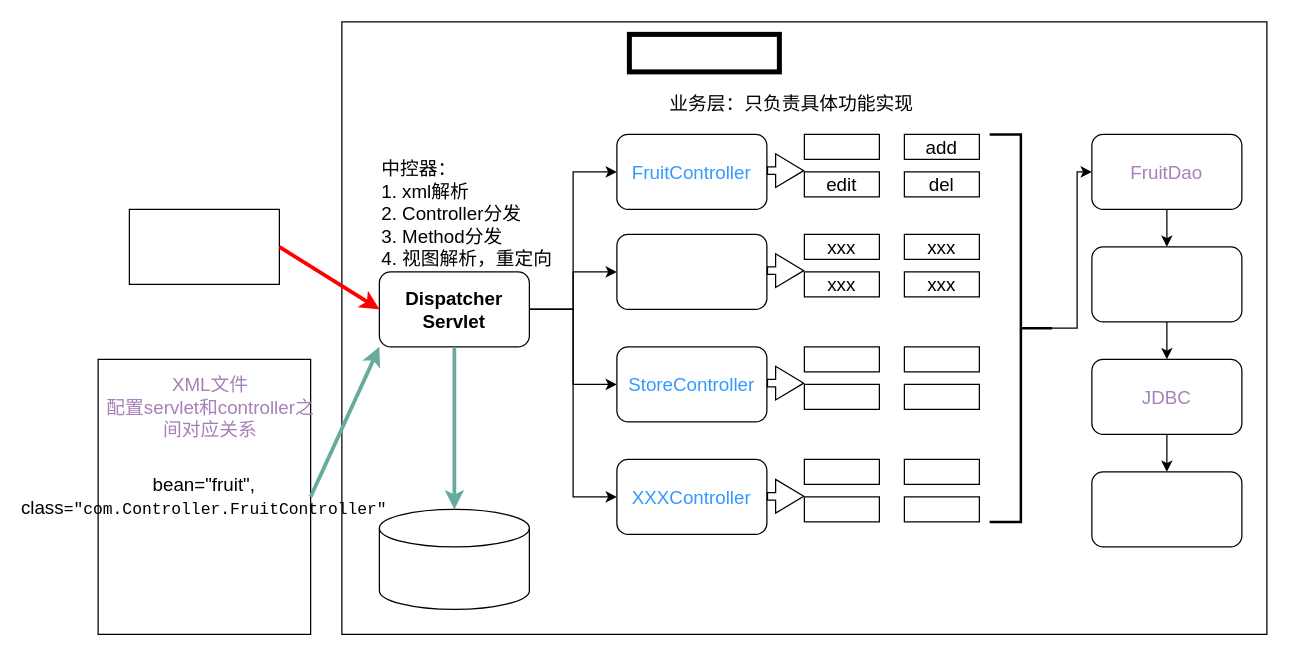
The diagram is 1289 pixels wide and 656 high, and some of its shapes have lost their labels. Here are the shapes that lost their labels. From the top down, the centre of each, then its label:
At pixel 703 52: "Tomcat容器".
At pixel 841 146: "index".
At pixel 203 246: "GET/POST请求".
At pixel 691 271: "UserController".
At pixel 1166 284: "BaseDao".
At pixel 1166 509: "MYSQL".
At pixel 453 558: "HashMap".
